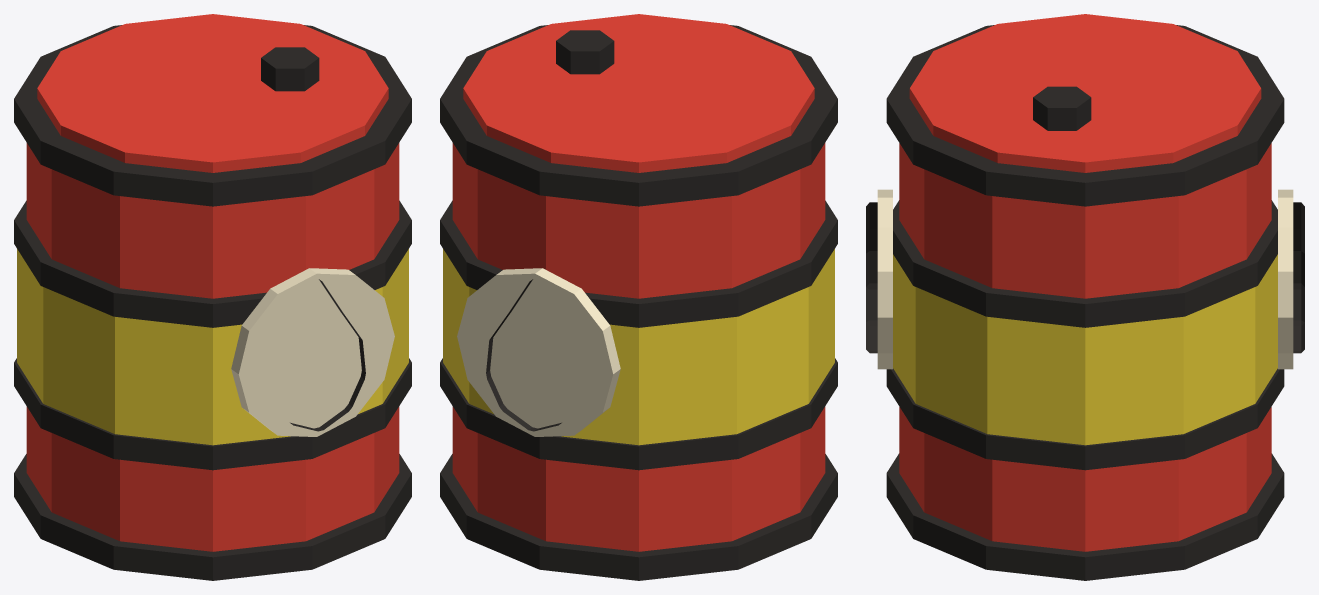
File: oil.glb
The picture shows the model from 3 angles, left to right: view 1: azimuth 30°, elevation 25°; view 2: azimuth 150°, elevation 25°; view 3: azimuth 270°, elevation 25°; orthographic projection.
Parts seen in each view (by area): view 1: oil-red-drum-body, oil-red-top-lid, oil-wide-yellow-band, oil-cream-badge-0, oil-black-hoop-3, oil-black-hoop-0, oil-black-hoop-1, oil-black-hoop-2, oil-black-bung, oil-black-teardrop-0; view 2: oil-red-drum-body, oil-red-top-lid, oil-wide-yellow-band, oil-cream-badge-1, oil-black-hoop-3, oil-black-hoop-0, oil-black-hoop-1, oil-black-hoop-2, oil-black-bung, oil-black-teardrop-1; view 3: oil-red-drum-body, oil-wide-yellow-band, oil-red-top-lid, oil-black-hoop-3, oil-black-hoop-0, oil-black-hoop-2, oil-black-hoop-1, oil-cream-badge-0, oil-cream-badge-1, oil-black-bung, oil-black-teardrop-0, oil-black-teardrop-1.
Part boxes in pixels (left/top/right/bottom): oil-red-drum-body: left=26, top=143, right=399, bottom=551; oil-red-top-lid: left=37, top=14, right=388, bottom=172; oil-wide-yellow-band: left=17, top=249, right=408, bottom=445; oil-cream-badge-0: left=231, top=268, right=394, bottom=436; oil-black-hoop-3: left=14, top=25, right=411, bottom=206; oil-black-hoop-0: left=14, top=454, right=411, bottom=580; oil-black-hoop-1: left=14, top=358, right=411, bottom=470; oil-black-hoop-2: left=14, top=200, right=411, bottom=327; oil-black-bung: left=261, top=47, right=319, bottom=91; oil-black-teardrop-0: left=290, top=279, right=365, bottom=431; oil-red-drum-body: left=452, top=143, right=825, bottom=551; oil-red-top-lid: left=463, top=14, right=814, bottom=172; oil-wide-yellow-band: left=443, top=249, right=834, bottom=445; oil-cream-badge-1: left=457, top=268, right=620, bottom=436; oil-black-hoop-3: left=440, top=25, right=837, bottom=206; oil-black-hoop-0: left=440, top=454, right=837, bottom=580; oil-black-hoop-1: left=440, top=358, right=837, bottom=470; oil-black-hoop-2: left=440, top=200, right=837, bottom=327; oil-black-bung: left=556, top=30, right=614, bottom=74; oil-black-teardrop-1: left=486, top=279, right=561, bottom=431; oil-red-drum-body: left=899, top=143, right=1271, bottom=551; oil-wide-yellow-band: left=893, top=254, right=1277, bottom=445; oil-red-top-lid: left=909, top=14, right=1261, bottom=172; oil-black-hoop-3: left=886, top=25, right=1284, bottom=206; oil-black-hoop-0: left=886, top=453, right=1284, bottom=580; oil-black-hoop-2: left=893, top=200, right=1277, bottom=327; oil-black-hoop-1: left=886, top=368, right=1284, bottom=470; oil-cream-badge-0: left=877, top=189, right=892, bottom=369; oil-cream-badge-1: left=1278, top=189, right=1293, bottom=369; oil-black-bung: left=1033, top=86, right=1091, bottom=130; oil-black-teardrop-0: left=866, top=202, right=877, bottom=353; oil-black-teardrop-1: left=1293, top=202, right=1304, bottom=353.
Bounding box in the file's own units: 0.8357 × 1 × 0.9212.
